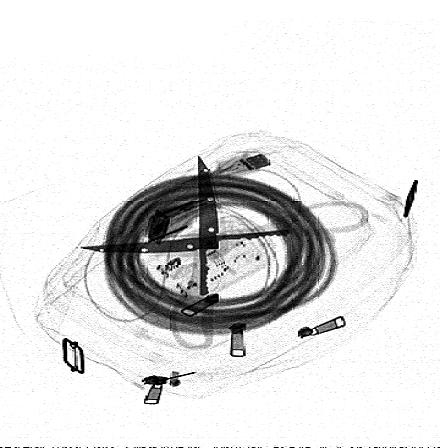Scissors: (75, 152, 377, 352)
